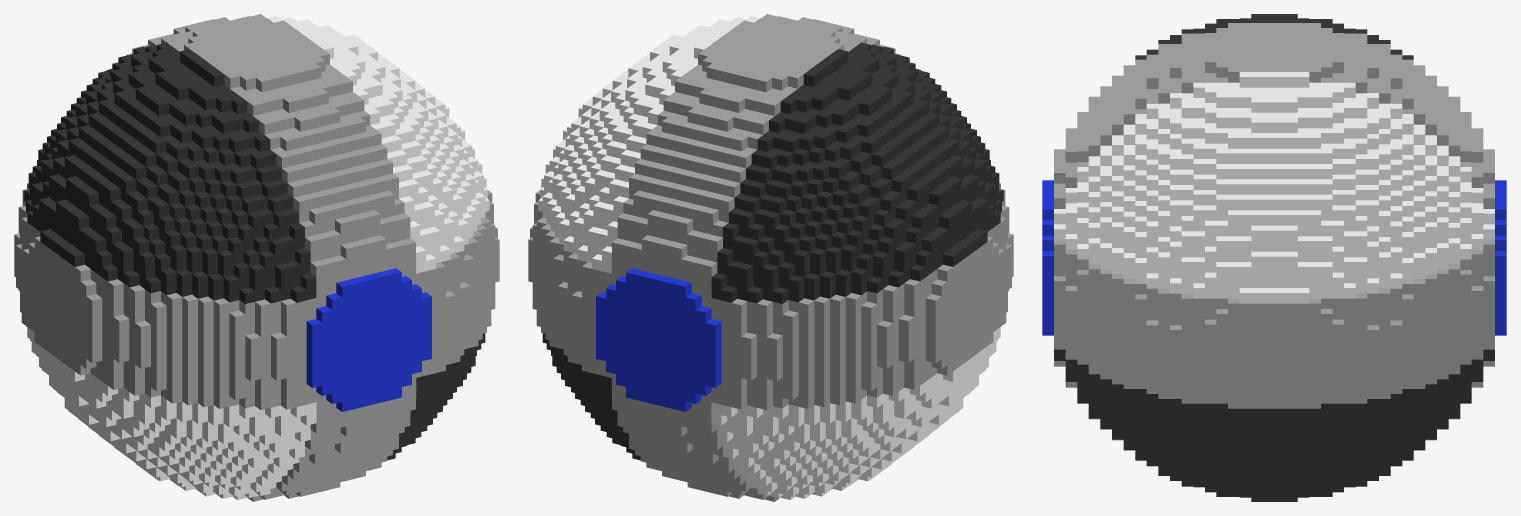
The model's file is Character_3.fbx.
3 views of the same model, side by side, from view 1: azimuth 30°, elevation 25°; view 2: azimuth 150°, elevation 25°; view 3: azimuth 270°, elevation 25° (orthographic).
Visible parts, largest first — view 1: Character_3; view 2: Character_3; view 3: Character_3.
Boxes of the visible parts, left/top/right/bottom form: Character_3: left=14, top=14, right=499, bottom=501; Character_3: left=528, top=14, right=1013, bottom=501; Character_3: left=1042, top=14, right=1506, bottom=501.
Size of the model in its own units: 40 by 40 by 40.
Materials: 1 (1 with a texture image).
